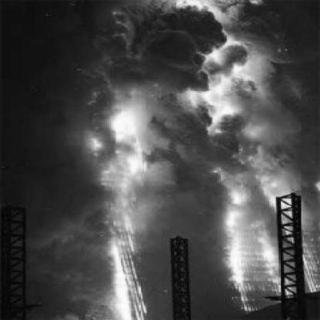Smoke: (93, 4, 221, 92)
